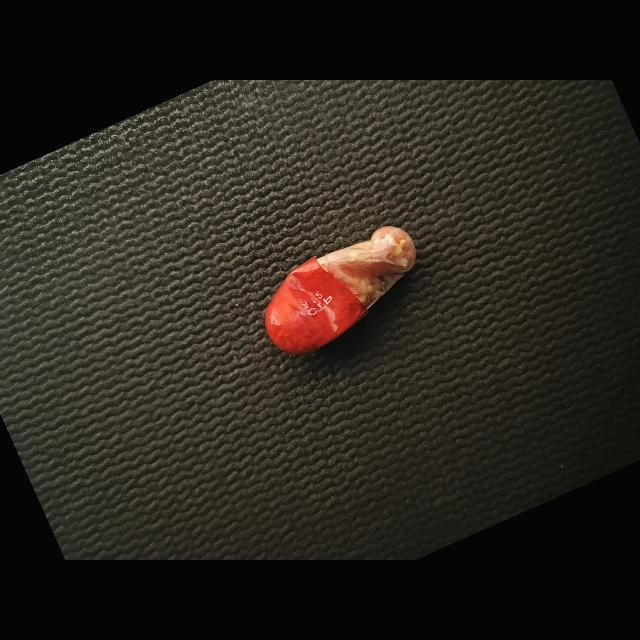Defective Capsule: (265, 226, 416, 354)
